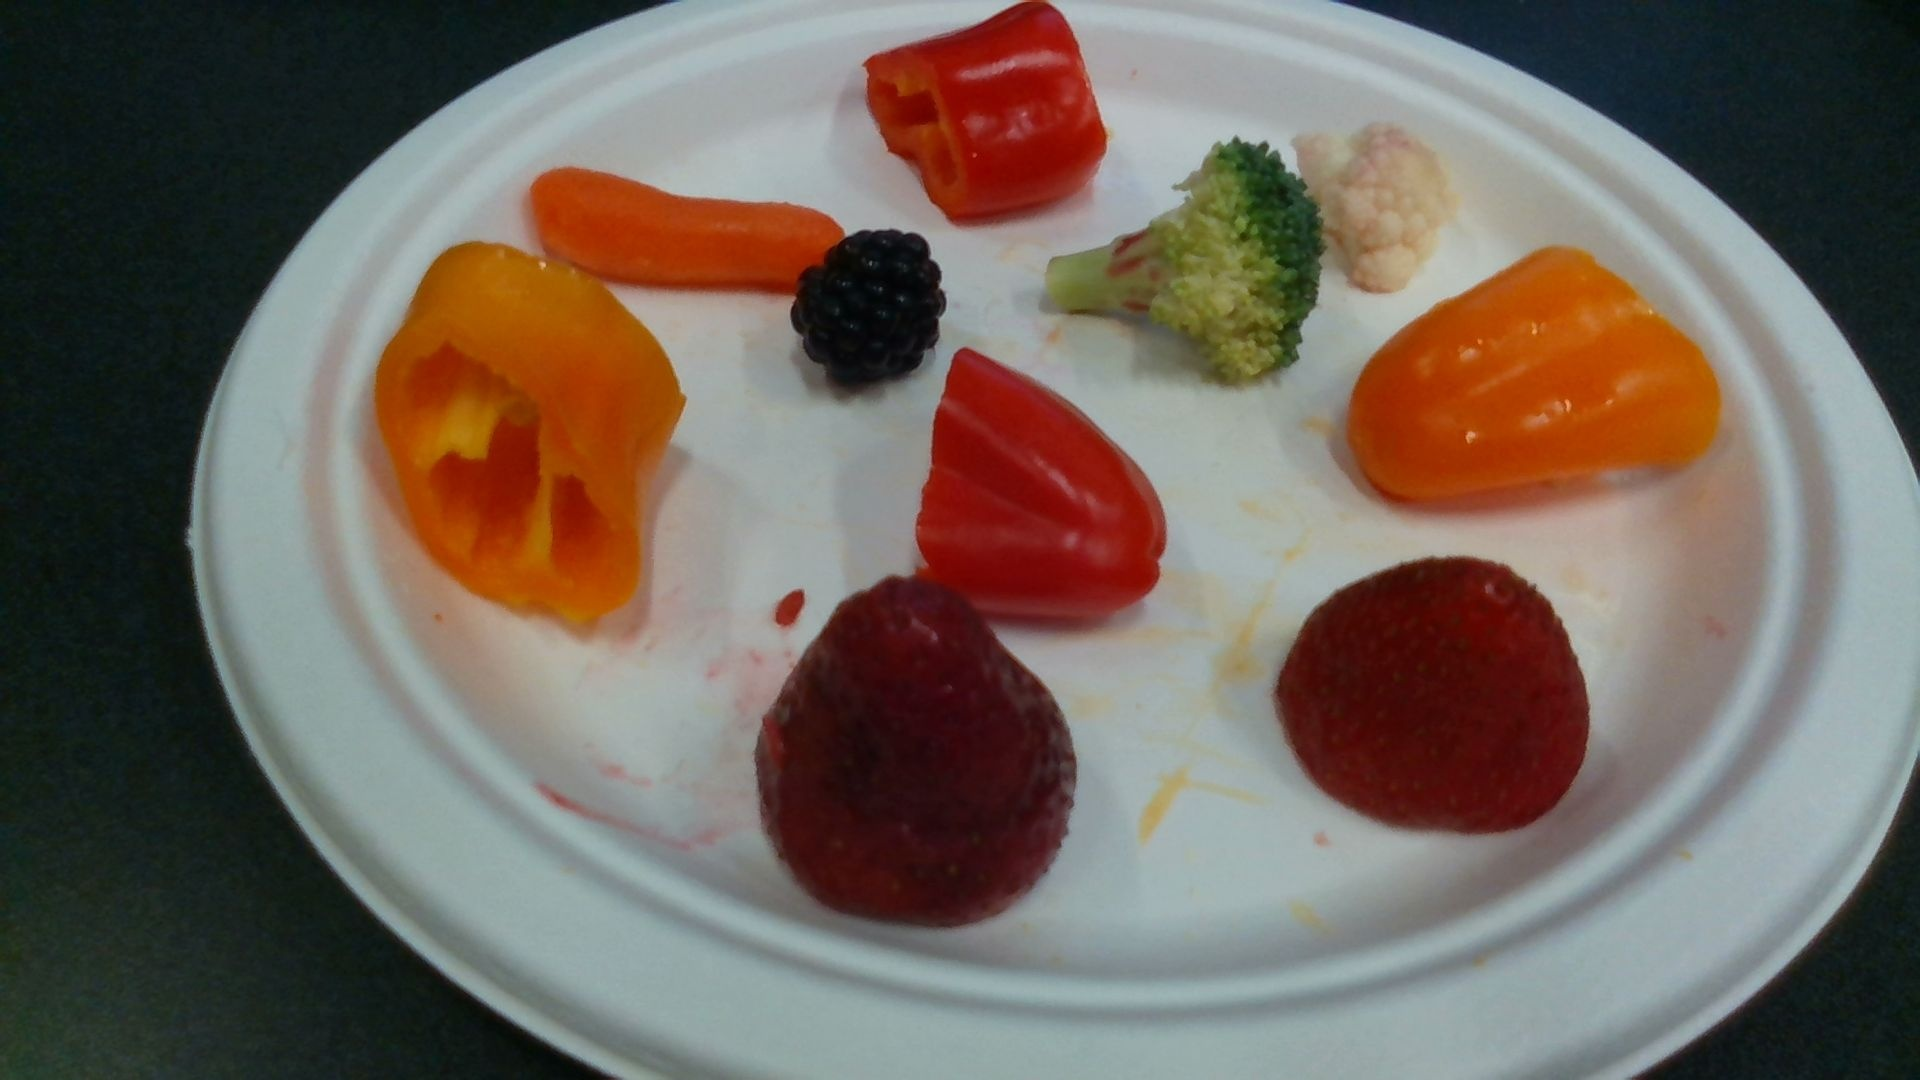bell_pepper: (377, 245, 684, 618), (1346, 245, 1720, 502), (915, 349, 1167, 618), (864, 1, 1105, 218)
blackberry: (790, 229, 945, 386)
broccoli: (1047, 145, 1323, 380)
carrot: (530, 170, 845, 291)
cauliflower: (1290, 123, 1455, 291)
strawberry: (760, 582, 1077, 923), (1282, 560, 1589, 835)
